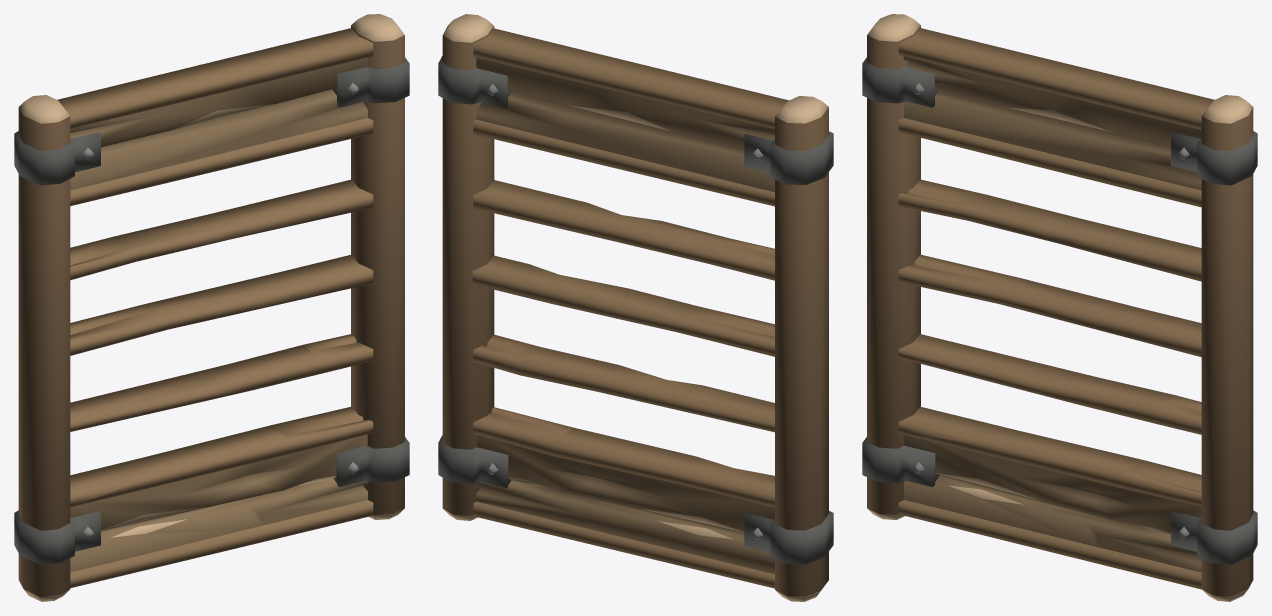
Rendered from rpgpp_ag_shelf_wood_03a.fbx.
The picture shows the model from 3 angles, left to right: view 1: azimuth 30°, elevation 25°; view 2: azimuth 150°, elevation 25°; view 3: azimuth 330°, elevation 25°; orthographic projection.
Parts seen in each view (by area): view 1: rpgpp_ag_shelf_wood_03a; view 2: rpgpp_ag_shelf_wood_03a; view 3: rpgpp_ag_shelf_wood_03a.
Boxes of the visible parts, x1=… form: rpgpp_ag_shelf_wood_03a: x1=14, y1=14, x2=409, y2=601; rpgpp_ag_shelf_wood_03a: x1=438, y1=14, x2=833, y2=601; rpgpp_ag_shelf_wood_03a: x1=862, y1=14, x2=1257, y2=601.
Size of the model in its own units: 2.24 by 2.74 by 0.3535.
